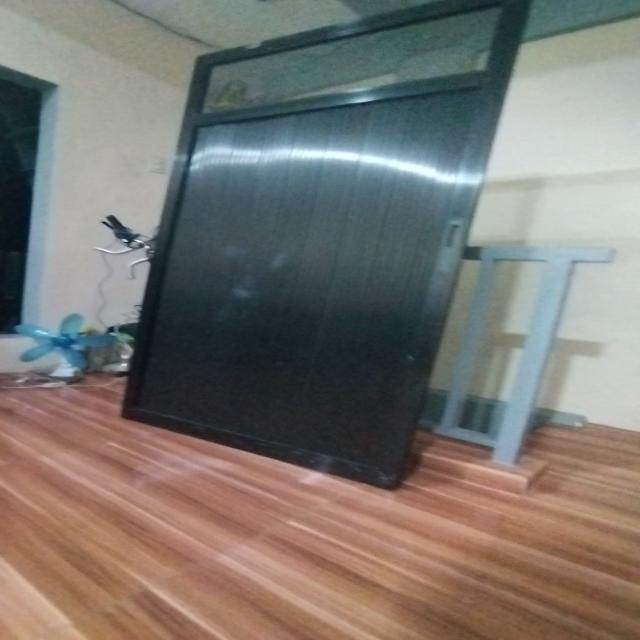door: (124, 0, 507, 480)
